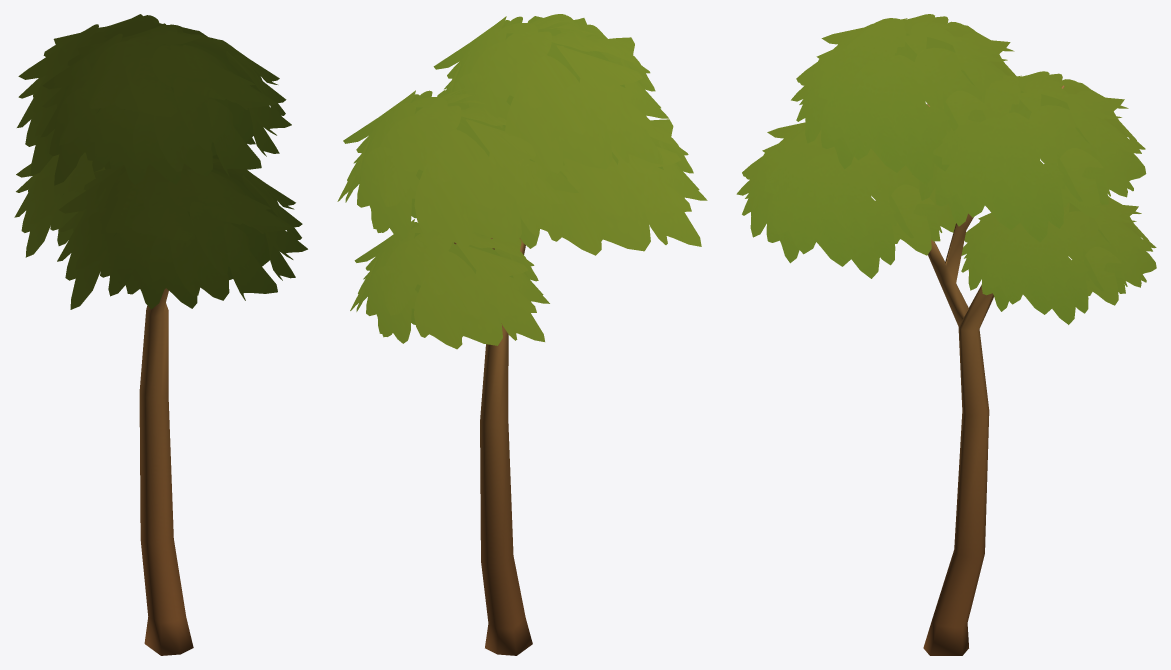
Rendered from MDL_Tree_04.fbx.
3 views of the same model, side by side, from view 1: azimuth 30°, elevation 25°; view 2: azimuth 150°, elevation 25°; view 3: azimuth 270°, elevation 25° (orthographic). The views are drawn at different scales.
Visible parts, largest first — view 1: Tree_D; view 2: Tree_D; view 3: Tree_D.
Boxes of the visible parts, x1,y1,x2,y2 form: Tree_D: (14,14,307,655); Tree_D: (337,14,707,655); Tree_D: (736,14,1156,655).
Bounding box in the file's own units: 181 × 392 × 243.
